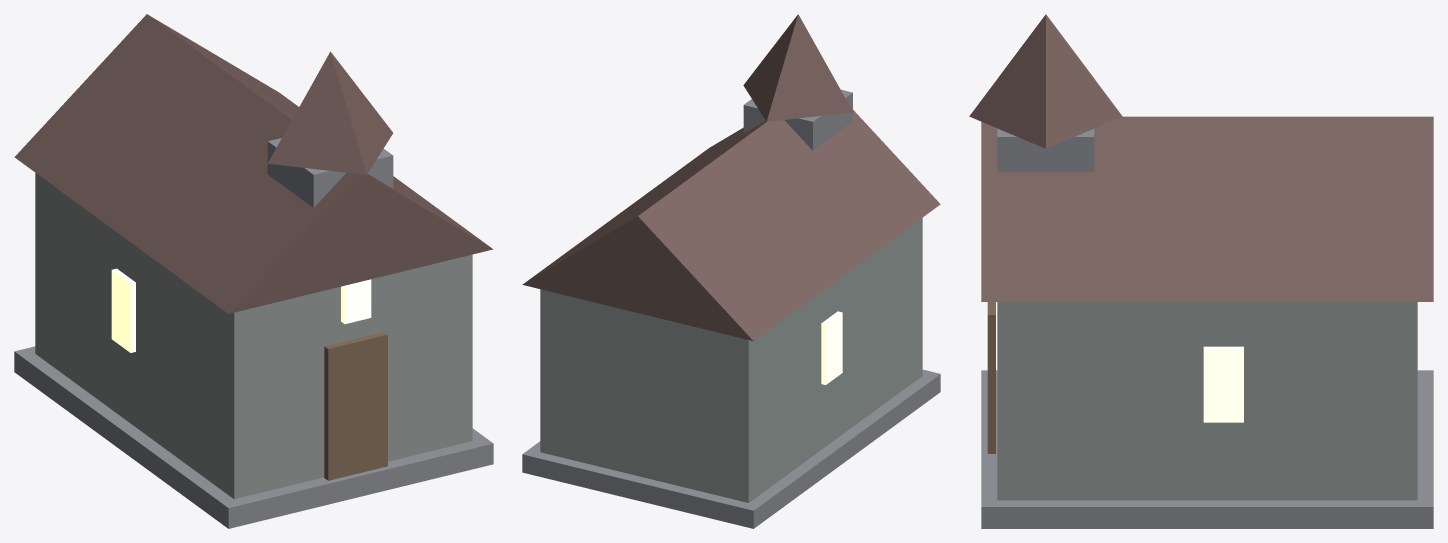
File: chapel.glb
The picture shows the model from 3 angles, left to right: view 1: azimuth 30°, elevation 25°; view 2: azimuth 150°, elevation 25°; view 3: azimuth 270°, elevation 25°; orthographic projection. The views are drawn at different scales.
Parts seen in each view (by area): view 1: chapel; view 2: chapel; view 3: chapel.
Boxes of the visible parts, box(x1,y1,x2,y2) form: chapel: box(14, 14, 493, 528); chapel: box(522, 14, 940, 528); chapel: box(969, 14, 1433, 528).
Bounding box in the file's own units: 4 × 6.1 × 5.75.
